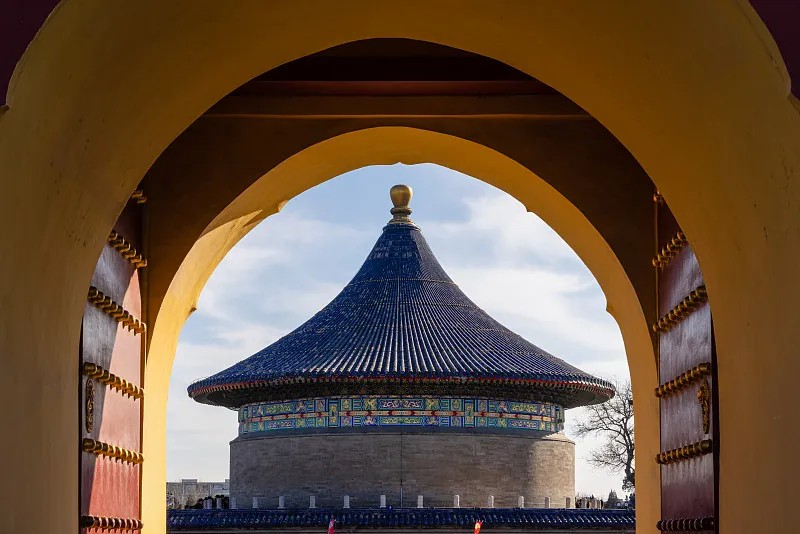Heaven: (186, 185, 618, 510)
